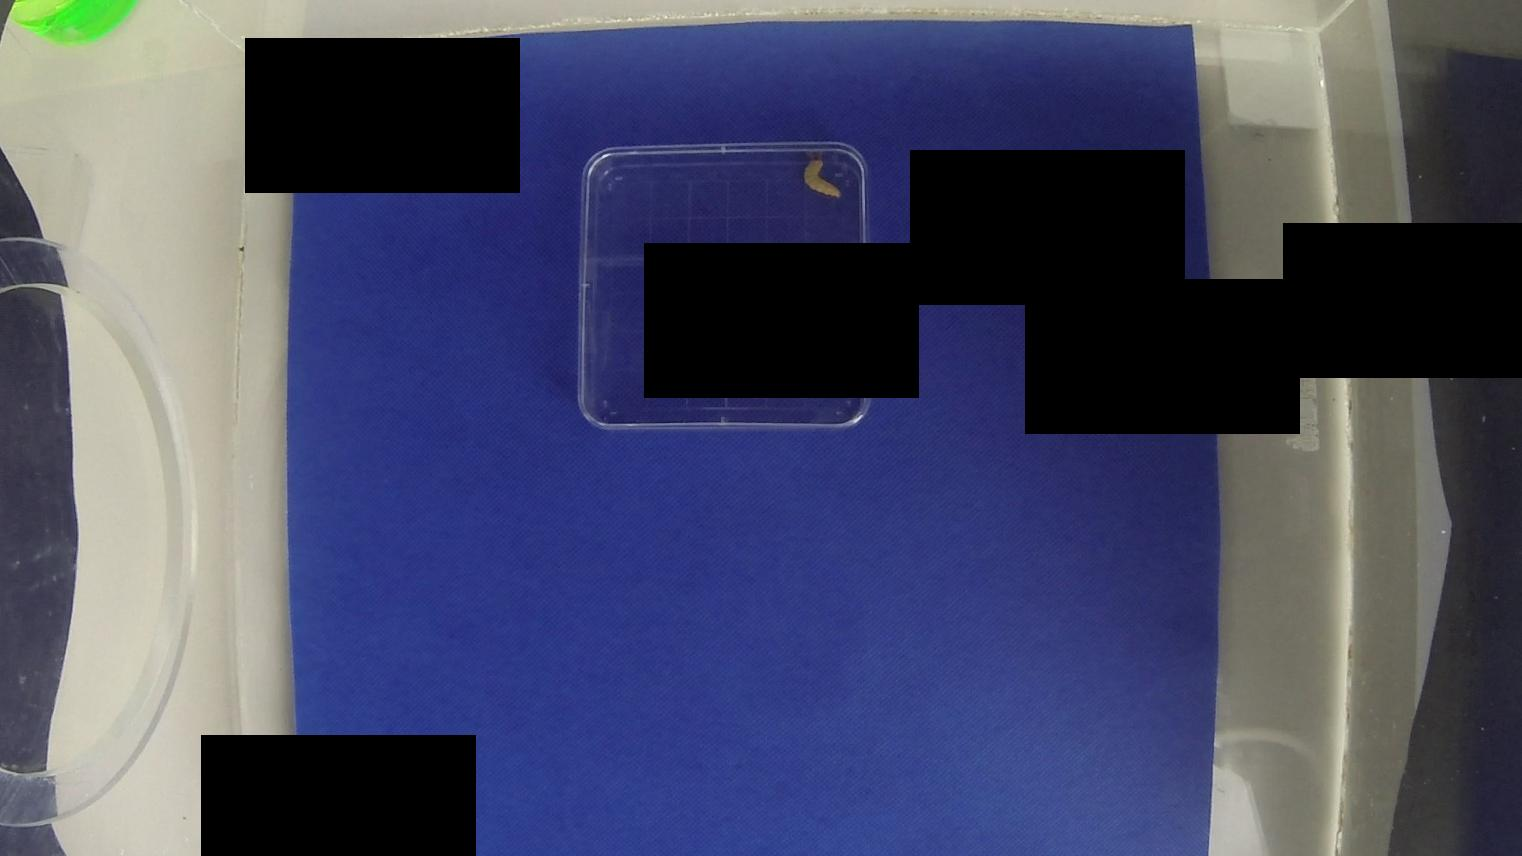larva: (800, 153, 842, 188)
